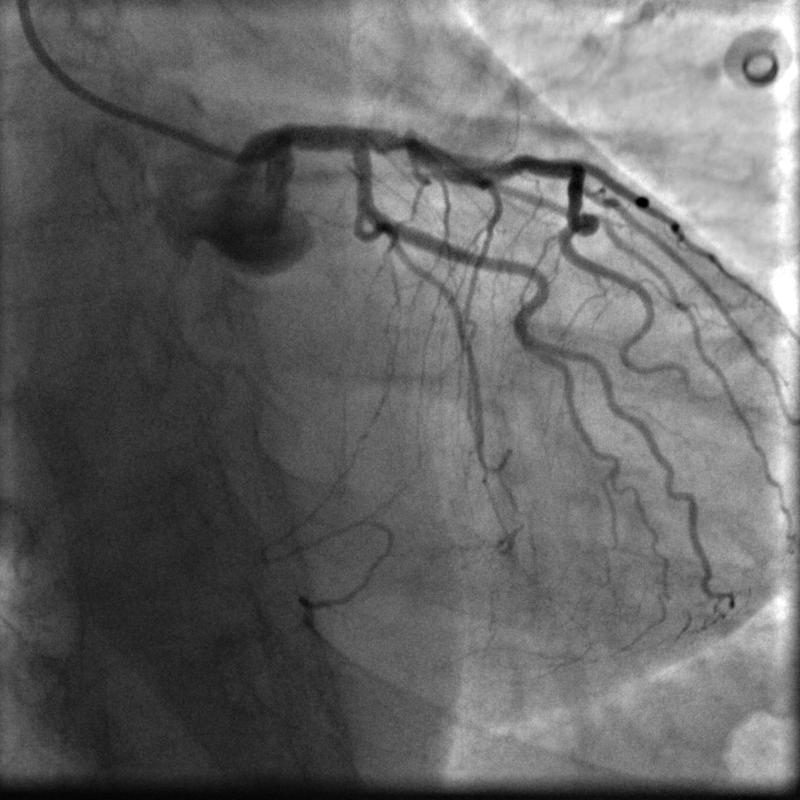Stenosis: (384, 126, 414, 154)
